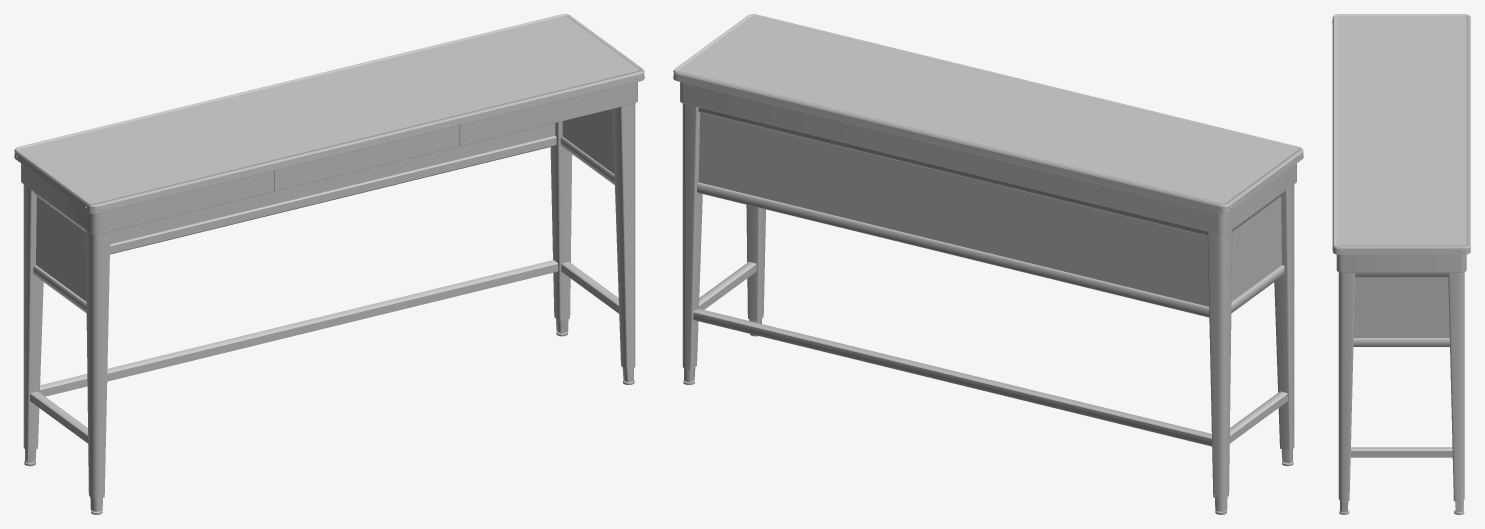
The model's file is end_table_wood_1.gltf.
The picture shows the model from 3 angles, left to right: view 1: azimuth 30°, elevation 25°; view 2: azimuth 150°, elevation 25°; view 3: azimuth 270°, elevation 25°; orthographic projection. The views are drawn at different scales.
Parts seen in each view (by area): view 1: end_table_wood_1.vmdl_c.unnamed_1; view 2: end_table_wood_1.vmdl_c.unnamed_1; view 3: end_table_wood_1.vmdl_c.unnamed_1.
Part boxes in pixels (<box>): end_table_wood_1.vmdl_c.unnamed_1: <box>14,14,644,514</box>; end_table_wood_1.vmdl_c.unnamed_1: <box>673,14,1303,514</box>; end_table_wood_1.vmdl_c.unnamed_1: <box>1332,14,1470,514</box>.
Bounding box in the file's own units: 1.7 × 0.9144 × 0.4238.
